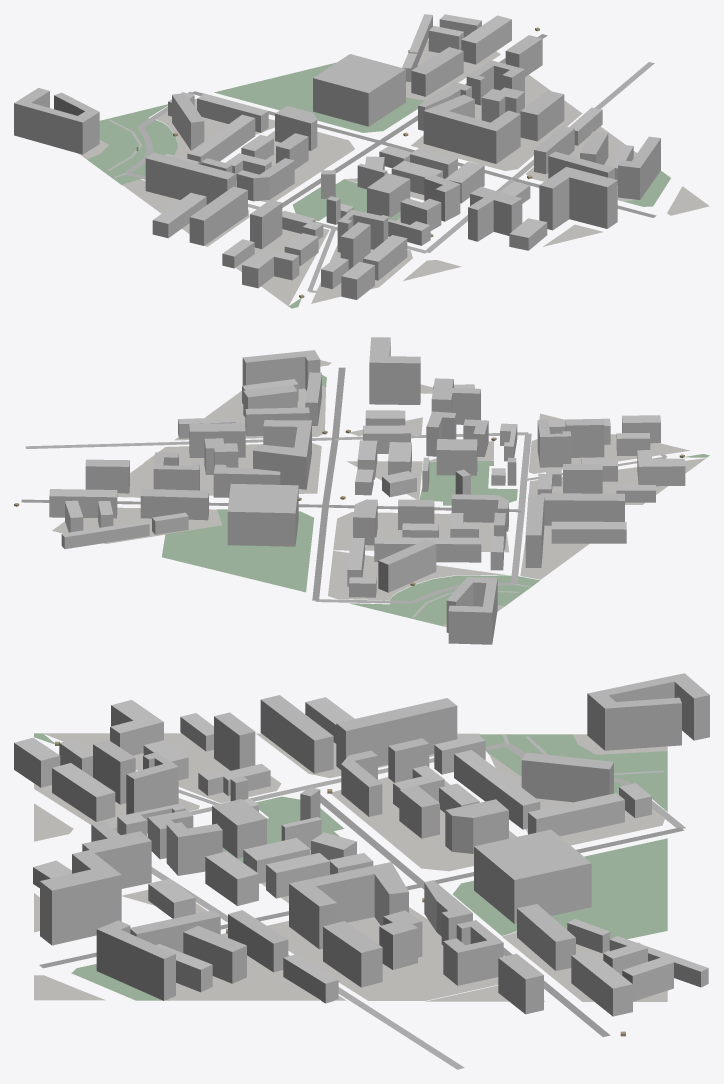
3 views of the same model, one above another, from view 1: azimuth 30°, elevation 25°; view 2: azimuth 150°, elevation 25°; view 3: azimuth 270°, elevation 25° (orthographic). The views are drawn at different scales.
Size of the model in its own units: 663 by 49.45 by 549.
